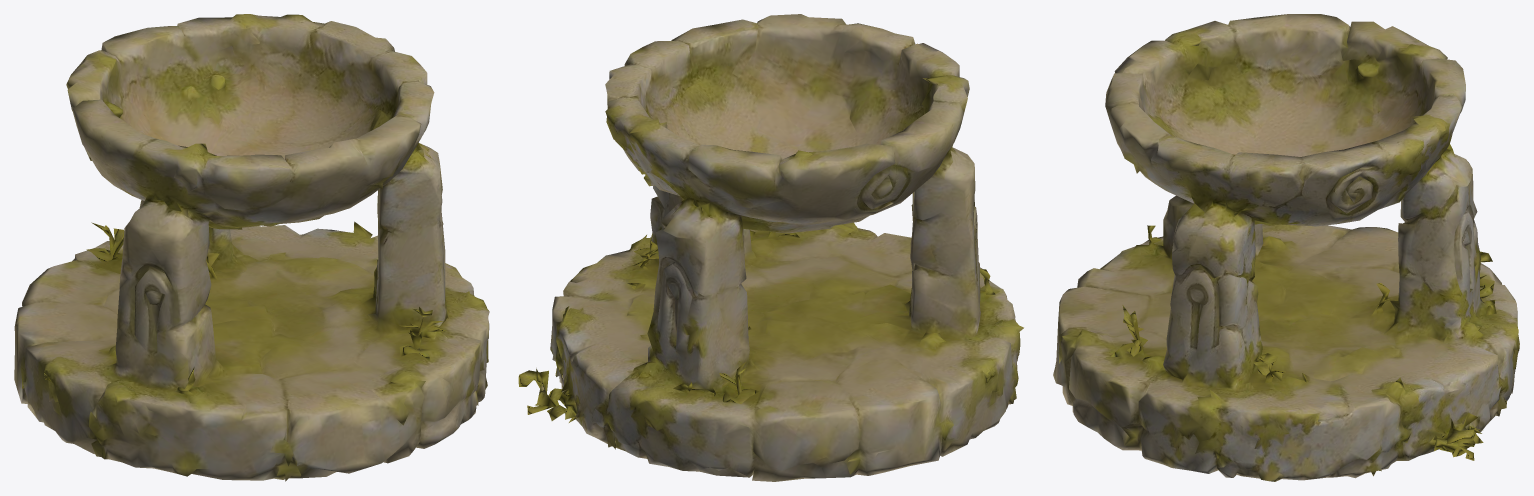
The model's file is shrine.glb.
The picture shows the model from 3 angles, left to right: view 1: azimuth 30°, elevation 25°; view 2: azimuth 150°, elevation 25°; view 3: azimuth 270°, elevation 25°; orthographic projection.
Parts seen in each view (by area): view 1: tripo_node_30dff805_25f3_4233_8640_c7c640060286__shrine; view 2: tripo_node_30dff805_25f3_4233_8640_c7c640060286__shrine; view 3: tripo_node_30dff805_25f3_4233_8640_c7c640060286__shrine.
Part boxes in pixels (x1,y1,x2,y2): tripo_node_30dff805_25f3_4233_8640_c7c640060286__shrine: [14, 14, 489, 481]; tripo_node_30dff805_25f3_4233_8640_c7c640060286__shrine: [518, 14, 1023, 481]; tripo_node_30dff805_25f3_4233_8640_c7c640060286__shrine: [1053, 14, 1519, 481].
Size of the model in its own units: 1.69 by 1.2 by 1.69.
Materials: 1 (1 with a texture image).
